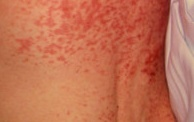SJS-TEN: (16, 0, 170, 84)
